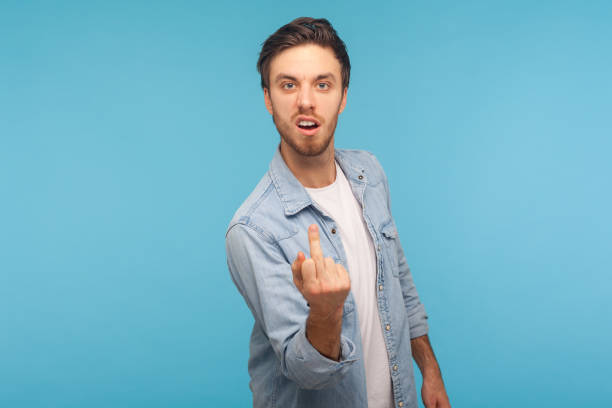insulting_gesture: (292, 225, 351, 311)
